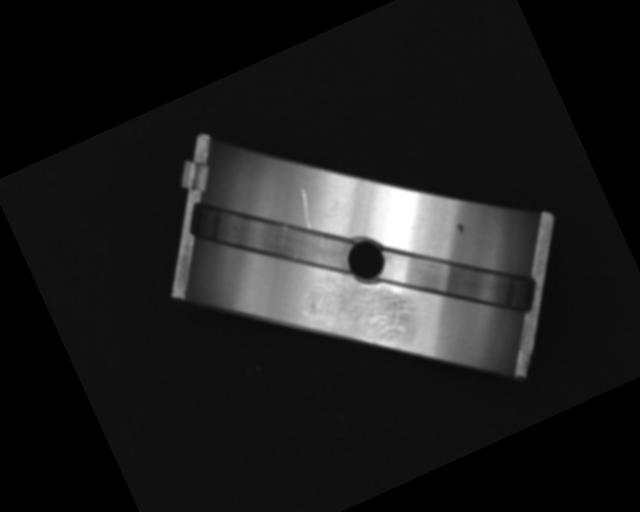bruise: (454, 221, 467, 237)
gap: (186, 157, 363, 317), (375, 203, 544, 356)
hole: (339, 232, 394, 287)
nick: (292, 187, 319, 230)
scratch: (295, 249, 420, 367)
